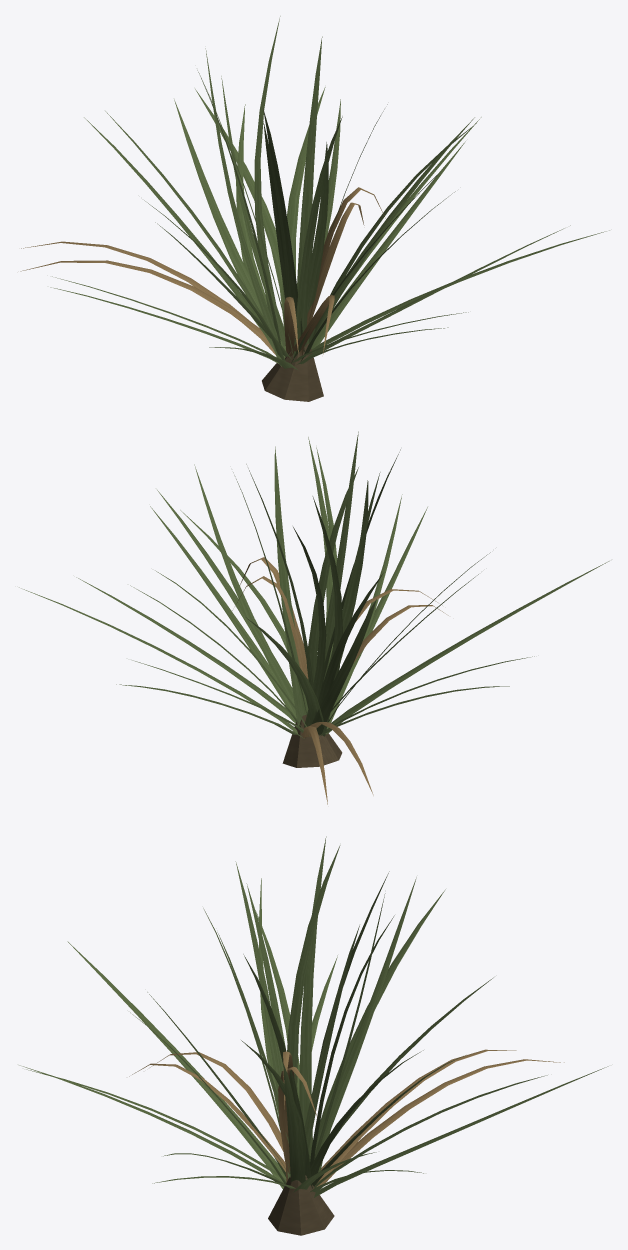
The model's file is SM_CN_Yucca_B.glb.
3 views of the same model, one above another, from view 1: azimuth 30°, elevation 25°; view 2: azimuth 150°, elevation 25°; view 3: azimuth 270°, elevation 25° (orthographic). The views are drawn at different scales.
Parts seen in each view (by area): view 1: SM_CN_Yucca_B; view 2: SM_CN_Yucca_B; view 3: SM_CN_Yucca_B.
Boxes of the visible parts, x1=… form: SM_CN_Yucca_B: x1=20, y1=16, x2=609, y2=401; SM_CN_Yucca_B: x1=19, y1=431, x2=609, y2=804; SM_CN_Yucca_B: x1=19, y1=836, x2=608, y2=1235.
Size of the model in its own units: 1.59 by 1.05 by 1.64.
Materials: 2 (2 with a texture image).
